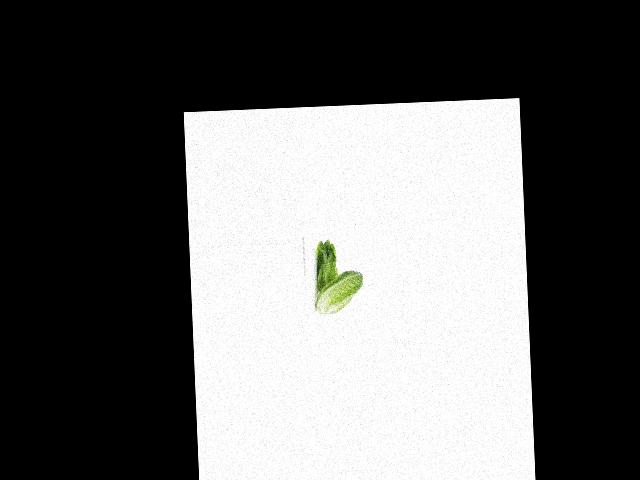lettuce: (308, 239, 343, 291)
